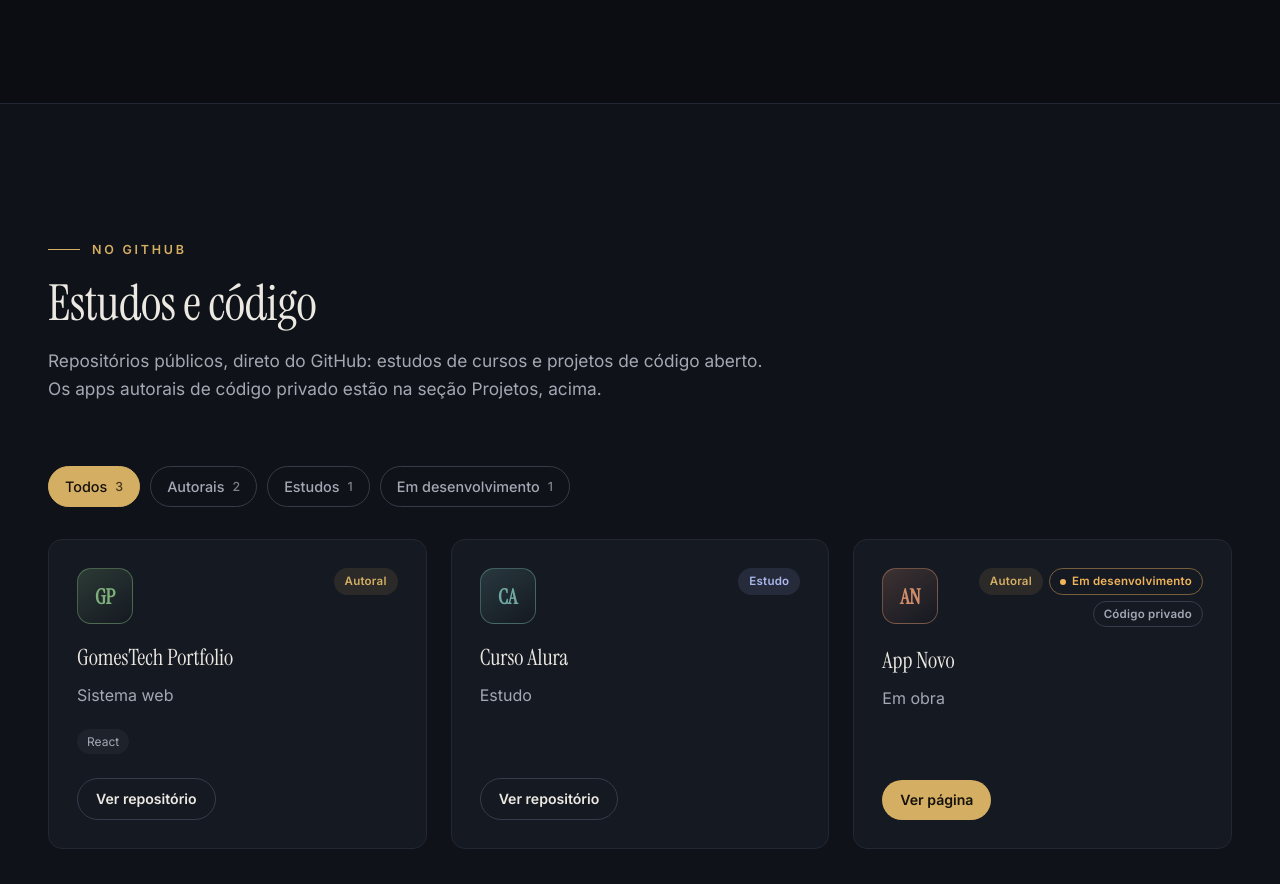
Test: Home Page › deve renderizar os projetos e filtrar por autorais, estudos e em desenvolvimento
(page scrolled)
Check: the heading "GomesTech Portfolio" is shown, box x1=77 y1=643 x2=233 y2=672
Click the button "Estudos 1": (318, 487) x1=267 y1=466 x2=370 y2=507
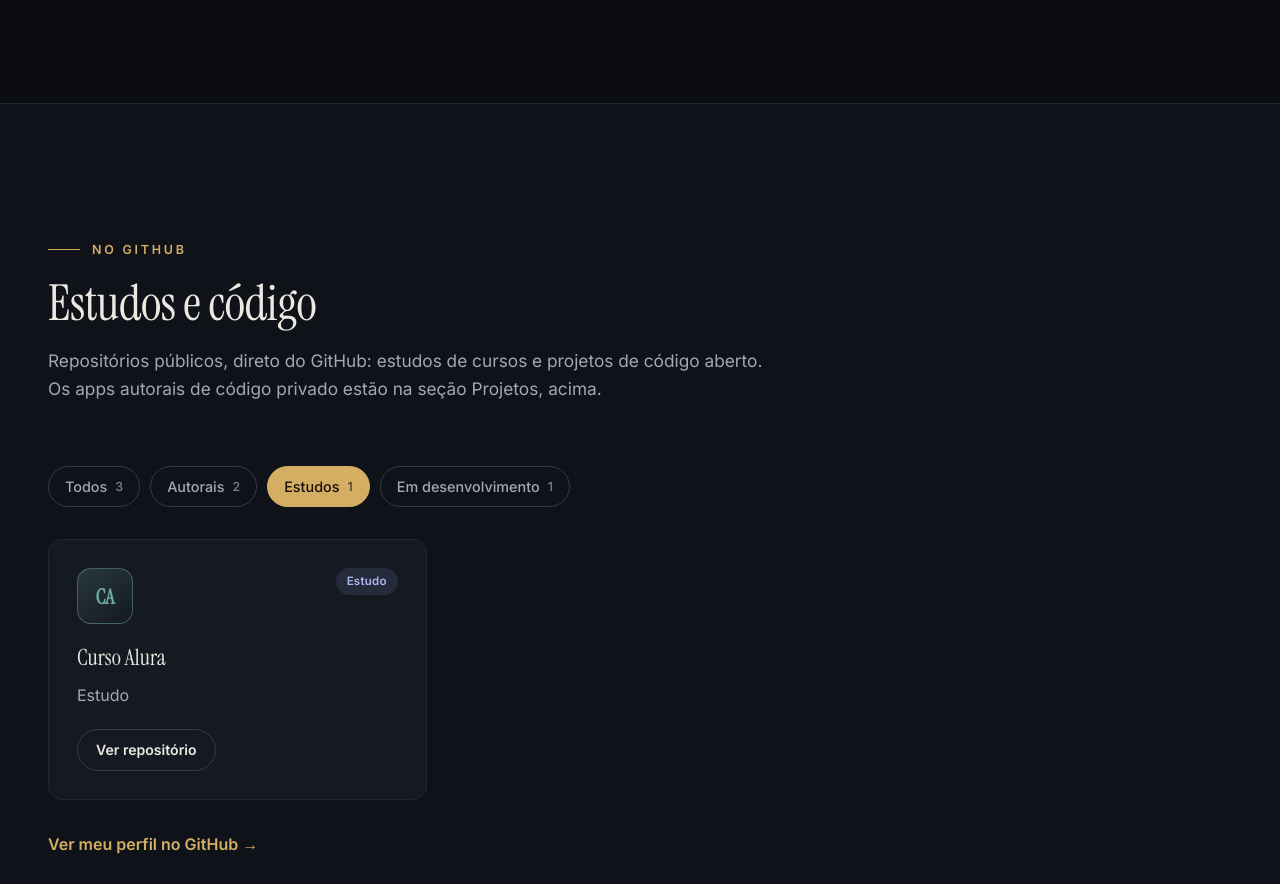
Check: the heading "Curso Alura" is shown, box x1=77 y1=643 x2=166 y2=672
Check: the heading "GomesTech Portfolio" is gone
Click the button "Autorais 2": (204, 487) x1=150 y1=466 x2=257 y2=507
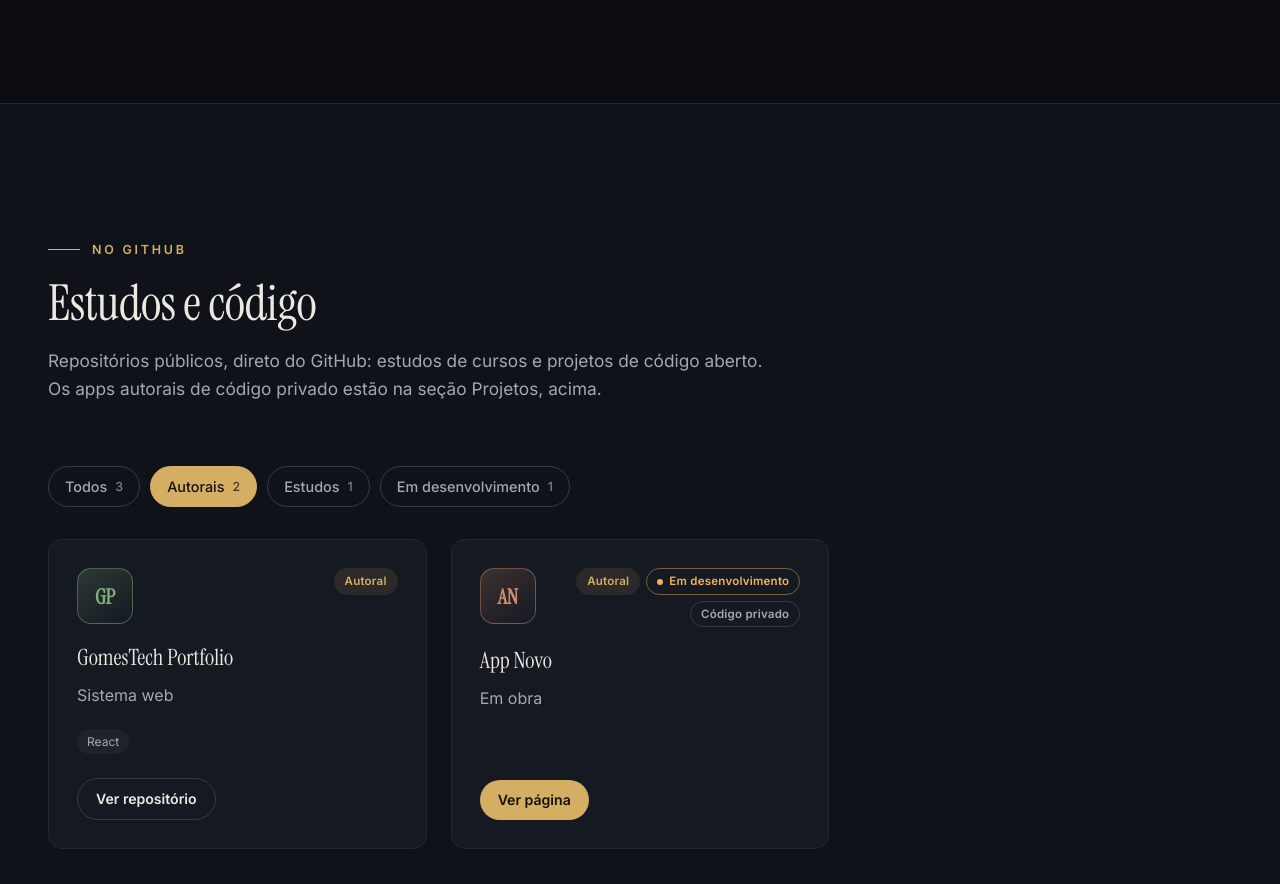
Check: the heading "GomesTech Portfolio" is shown, box x1=77 y1=643 x2=233 y2=672
Check: the heading "Curso Alura" is gone
Click the button "Em desenvolvimento 1": (475, 487) x1=380 y1=466 x2=570 y2=507
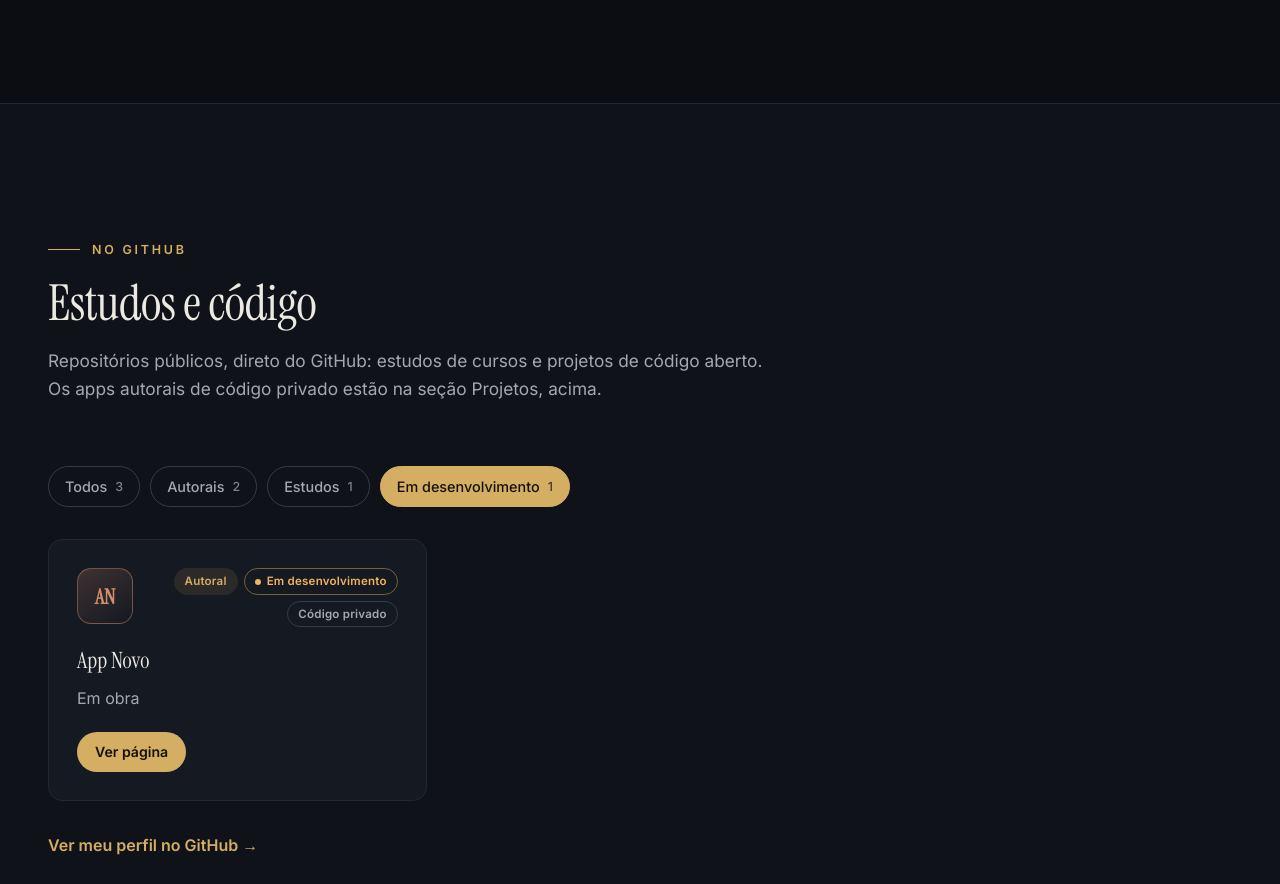
Check: the heading "App Novo" is shown, box x1=77 y1=646 x2=149 y2=675
Check: the heading "GomesTech Portfolio" is gone
